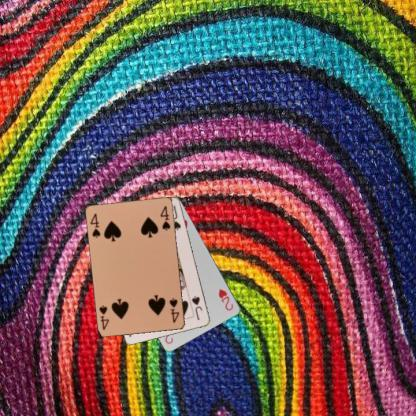2h: (216, 287, 235, 312)
4s: (167, 296, 181, 324), (88, 211, 102, 239)
Js: (190, 294, 204, 321)
